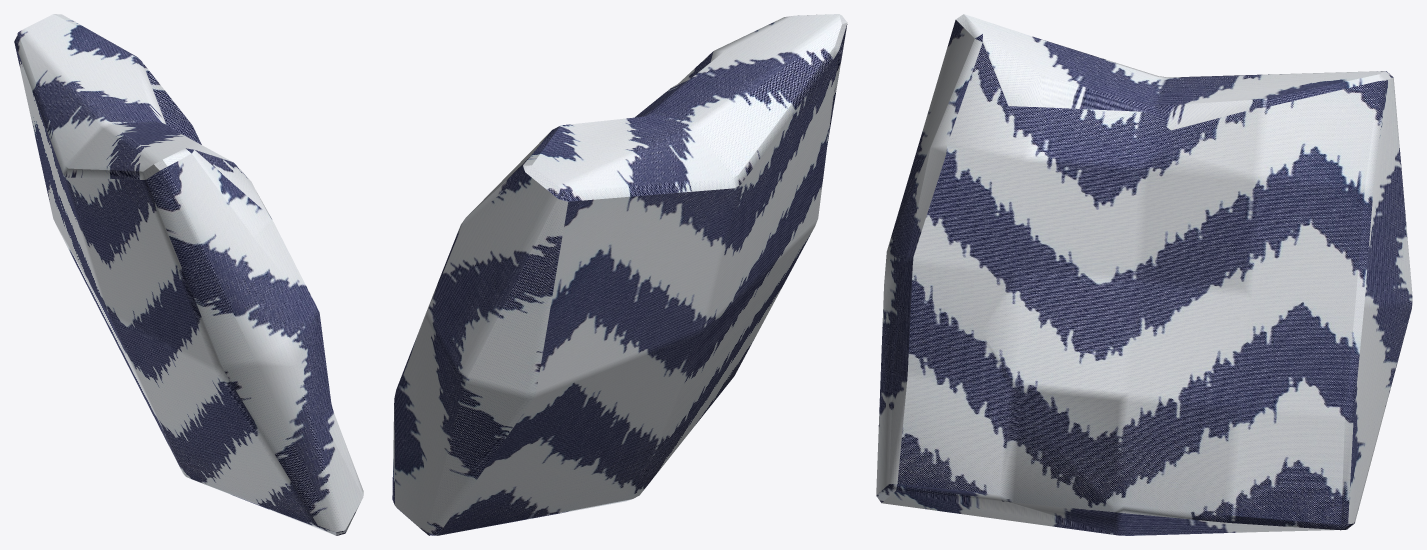
File: cushion1.fbx
The picture shows the model from 3 angles, left to right: view 1: azimuth 30°, elevation 25°; view 2: azimuth 150°, elevation 25°; view 3: azimuth 270°, elevation 25°; orthographic projection. The views are drawn at different scales.
Parts seen in each view (by area): view 1: cushion1; view 2: cushion1; view 3: cushion1.
Boxes of the visible parts, left/top/right/bottom form: cushion1: left=14, top=14, right=363, bottom=535; cushion1: left=392, top=14, right=847, bottom=535; cushion1: left=876, top=14, right=1412, bottom=535.
Size of the model in its own units: 0.6752 by 1.04 by 1.16.
Materials: 2 (2 with a texture image).
